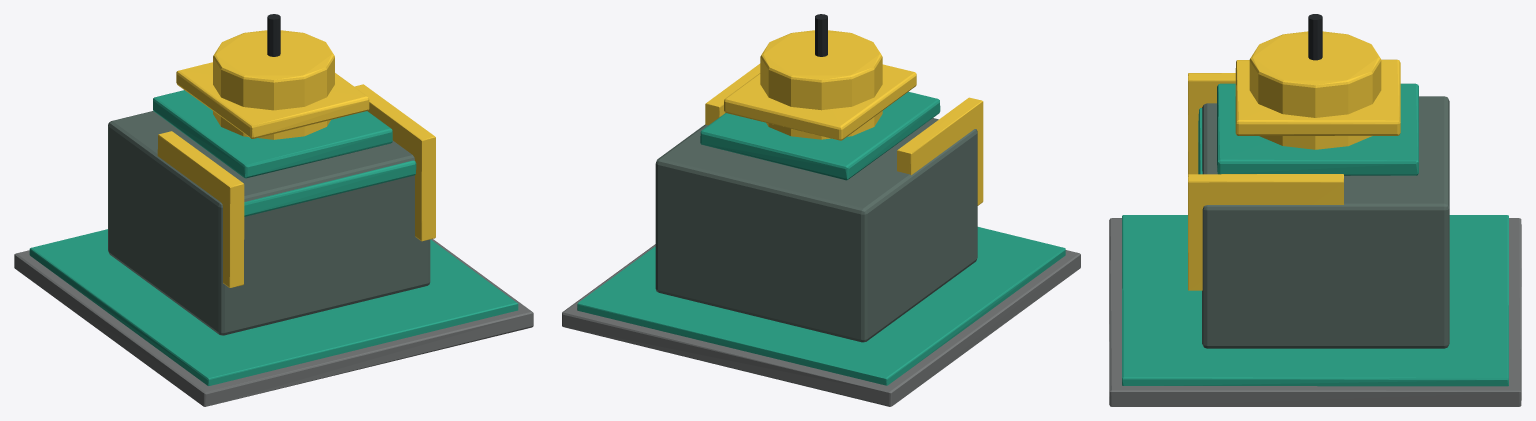
Rendered from SM_Coalition_CO_ConYard_LOD1.fbx.
3 renders of one model, left to right at view 1: azimuth 30°, elevation 25°; view 2: azimuth 150°, elevation 25°; view 3: azimuth 270°, elevation 25°, orthographic. The views are drawn at different scales.
Visible parts, largest first — view 1: LOD01_SM_Coalition_CO_ConYard; view 2: LOD01_SM_Coalition_CO_ConYard; view 3: LOD01_SM_Coalition_CO_ConYard.
Boxes of the visible parts, bbox=[...] form: LOD01_SM_Coalition_CO_ConYard: bbox=[14, 14, 533, 406]; LOD01_SM_Coalition_CO_ConYard: bbox=[562, 14, 1080, 406]; LOD01_SM_Coalition_CO_ConYard: bbox=[1109, 14, 1521, 406].
Size of the model in its own units: 799 by 800 by 651.
